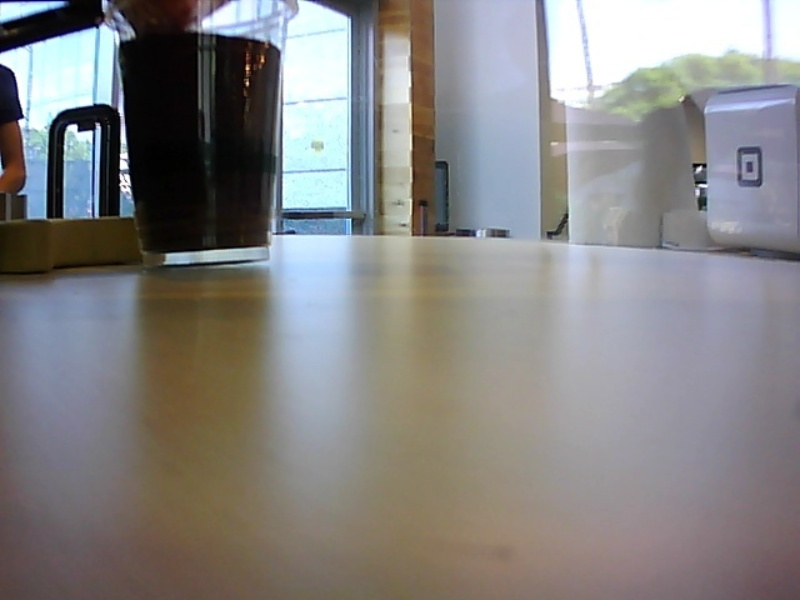cup: (100, 1, 303, 274)
limit: (110, 28, 282, 55)
